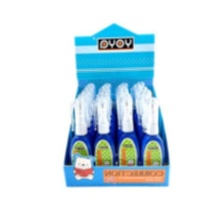book: (60, 22, 172, 189)
correction_fluid: (137, 96, 166, 184), (92, 94, 117, 184), (67, 98, 93, 184), (116, 94, 140, 185)
